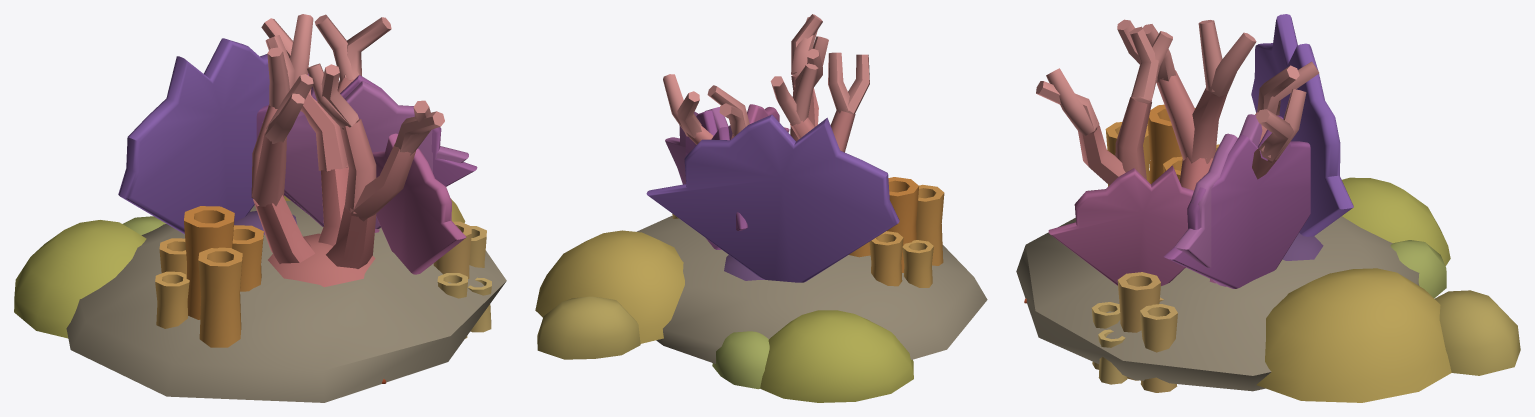
File: coral-reef-b.glb
3 renders of one model, left to right at view 1: azimuth 30°, elevation 25°; view 2: azimuth 150°, elevation 25°; view 3: azimuth 270°, elevation 25°, orthographic. The views are drawn at different scales.
Parts seen in each view (by area): view 1: coral-reef-b; view 2: coral-reef-b; view 3: coral-reef-b.
Part boxes in pixels (bbox=[...]): coral-reef-b: bbox=[14, 14, 506, 402]; coral-reef-b: bbox=[535, 14, 987, 402]; coral-reef-b: bbox=[1016, 14, 1520, 402].
Bounding box in the file's own units: 2.16 × 1.38 × 2.22.
